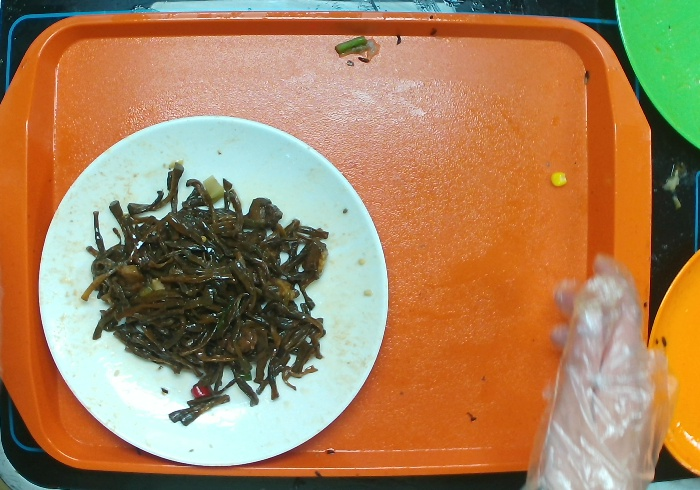HZYJPL-Bai_Se_Yuan_Pan: (36, 113, 389, 467)
